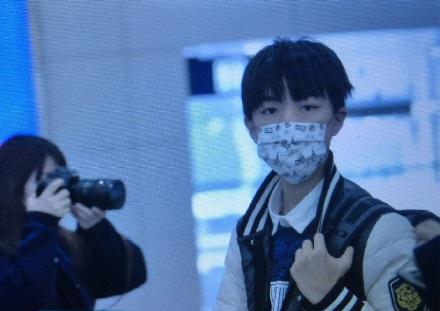OK: (248, 92, 332, 176)
